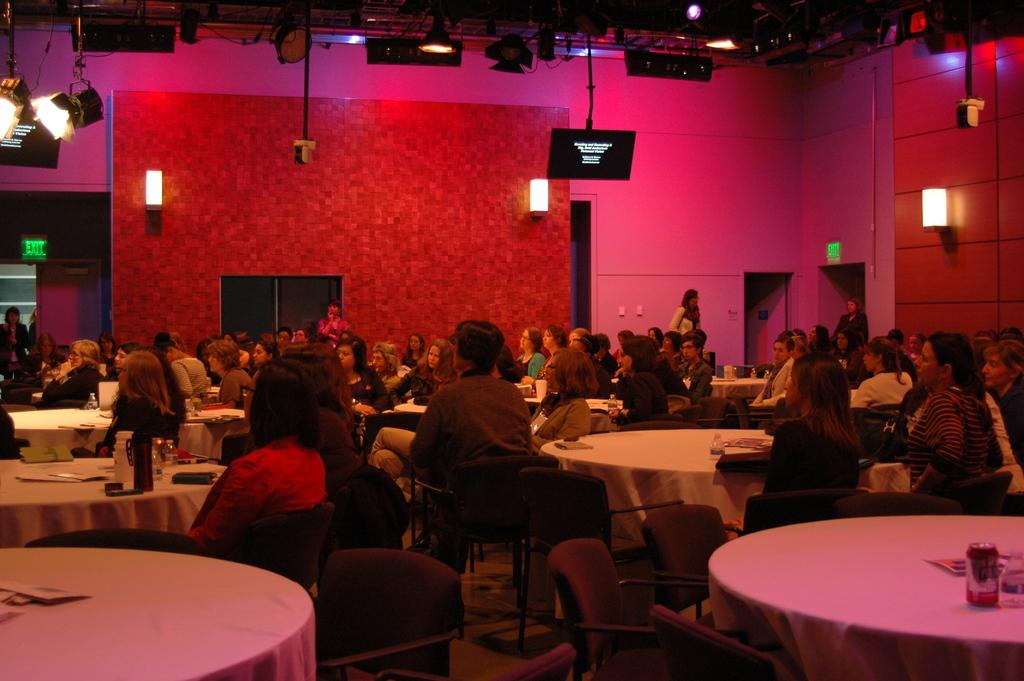Chair: (508, 461, 690, 640), (541, 527, 710, 680), (310, 546, 467, 680), (406, 448, 563, 571), (639, 494, 754, 615), (652, 607, 808, 680), (618, 386, 795, 430), (721, 482, 846, 540), (28, 527, 209, 556), (944, 468, 1023, 515), (835, 488, 963, 516), (356, 413, 419, 456), (863, 400, 897, 455), (204, 432, 257, 465), (733, 361, 756, 381)
